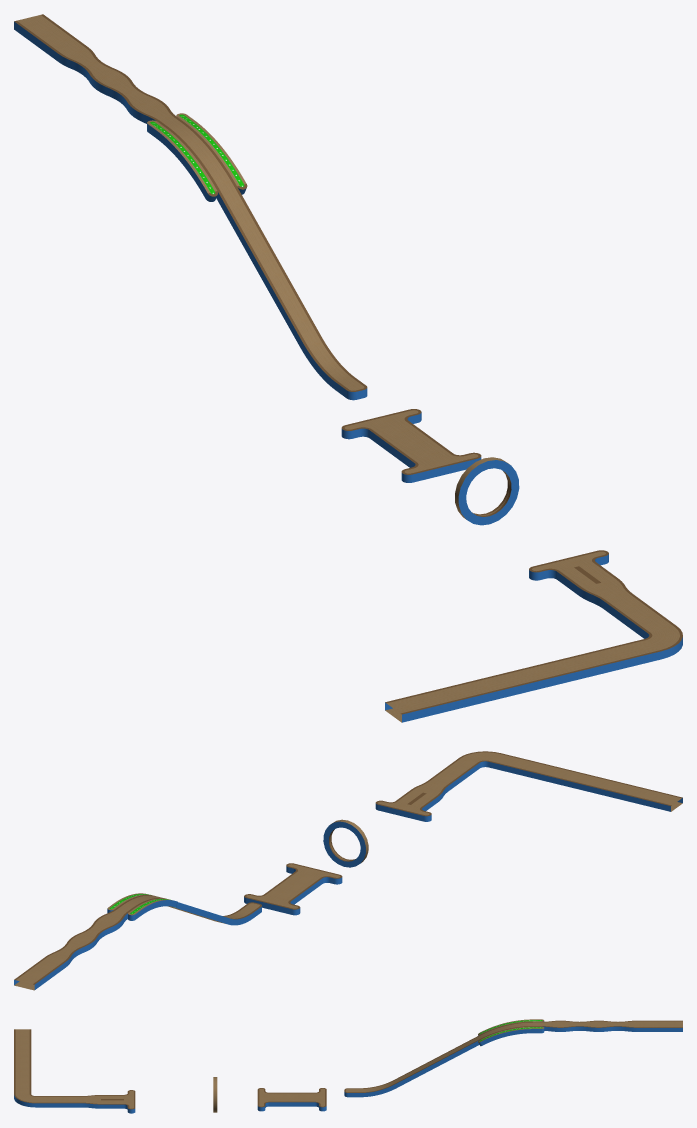
The model's file is ramp_29.FBX.
3 views of the same model, one above another, from view 1: azimuth 30°, elevation 25°; view 2: azimuth 150°, elevation 25°; view 3: azimuth 270°, elevation 25° (orthographic). The views are drawn at different scales.
Visible parts, largest first — view 1: ramp_29; view 2: ramp_29; view 3: ramp_29.
Boxes of the visible parts, x1=… form: ramp_29: x1=14, y1=14, x2=682, y2=722; ramp_29: x1=14, y1=751, x2=682, y2=990; ramp_29: x1=14, y1=1019, x2=682, y2=1113.
Bounding box in the file's own units: 4950 × 2502 × 17493.
